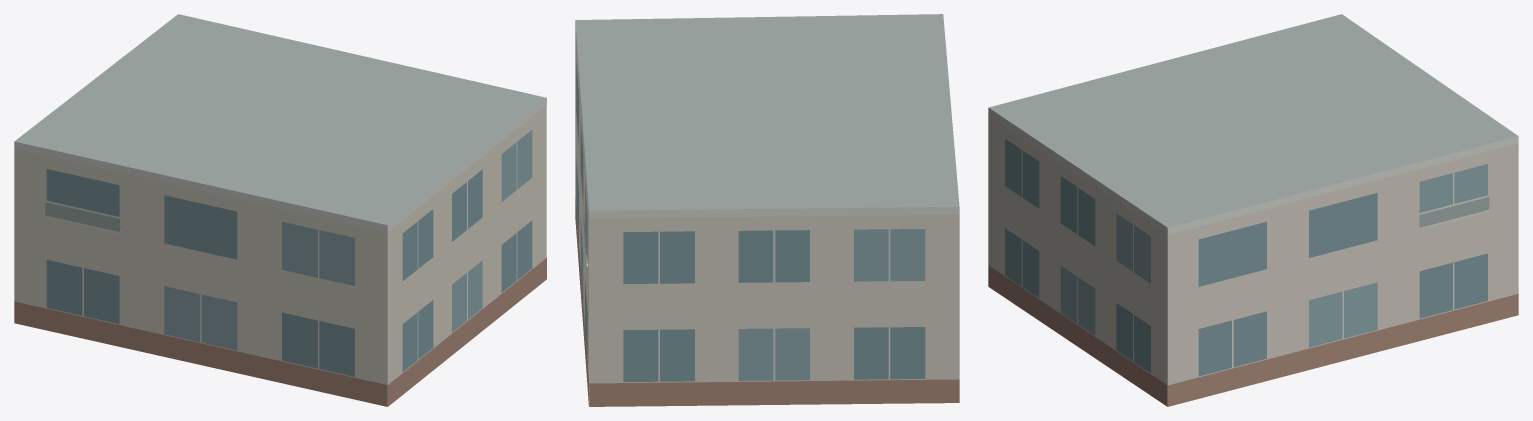
Rendered from survey-upis-32627213.glb.
3 views of the same model, side by side, from view 1: azimuth 30°, elevation 25°; view 2: azimuth 150°, elevation 25°; view 3: azimuth 270°, elevation 25° (orthographic). The views are drawn at different scales.
Visible parts, largest first — view 1: survey-upis-32627213.tmp; view 2: survey-upis-32627213.tmp; view 3: survey-upis-32627213.tmp.
Part boxes in pixels (bbox=[...]): survey-upis-32627213.tmp: bbox=[14, 14, 546, 406]; survey-upis-32627213.tmp: bbox=[575, 14, 959, 406]; survey-upis-32627213.tmp: bbox=[988, 14, 1518, 406].
Size of the model in its own units: 15.62 by 6.1 by 16.37.
